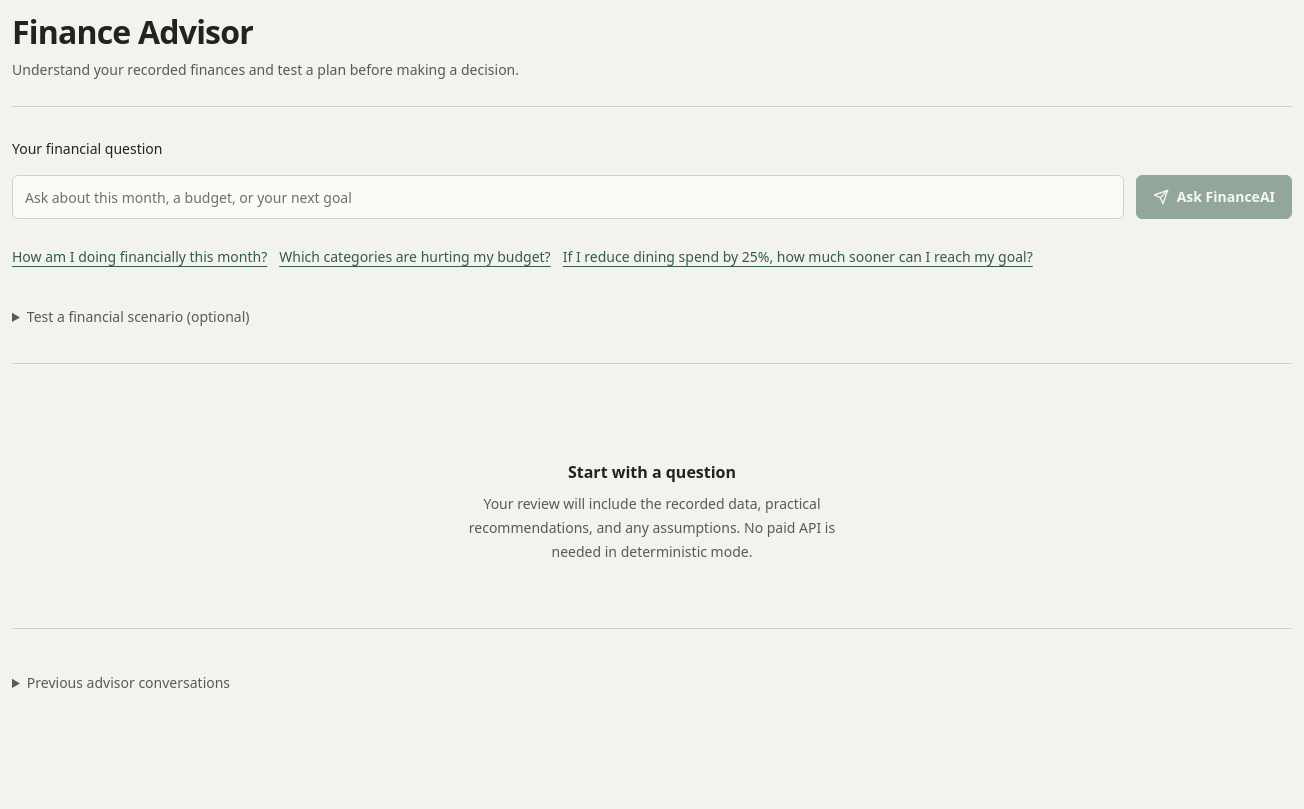
Scenario: Finance Advisor workspace › shows insufficient evidence and retains legacy history
The image size is (1304, 809).
Expected: the heading "Previous advisor conversations" is shown, [27,673,230,692]
Type "How are my finances?" into the field labelled "Your financial question". click: (568, 197)
box: [12,175,1124,219]
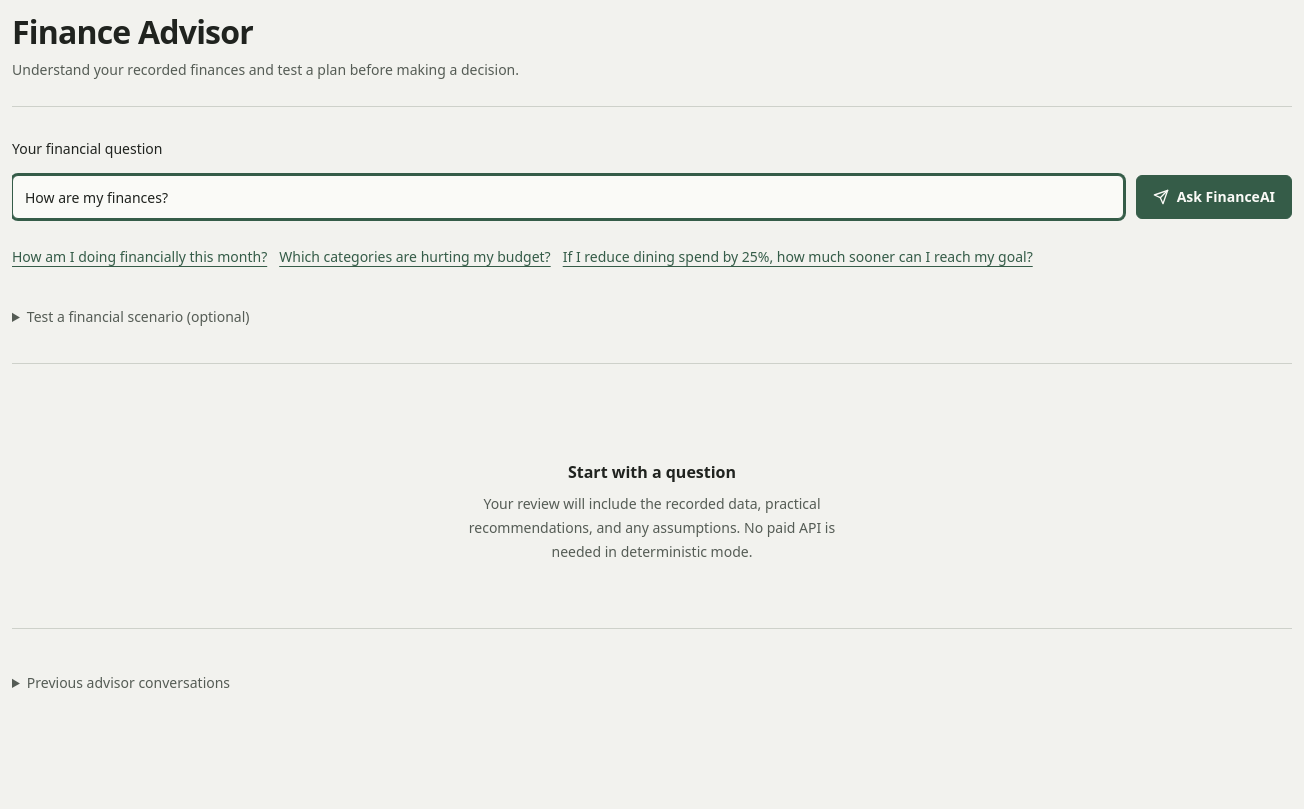
Click the button "Ask FinanceAI". click: (1214, 197)
box: [1136,175,1292,219]
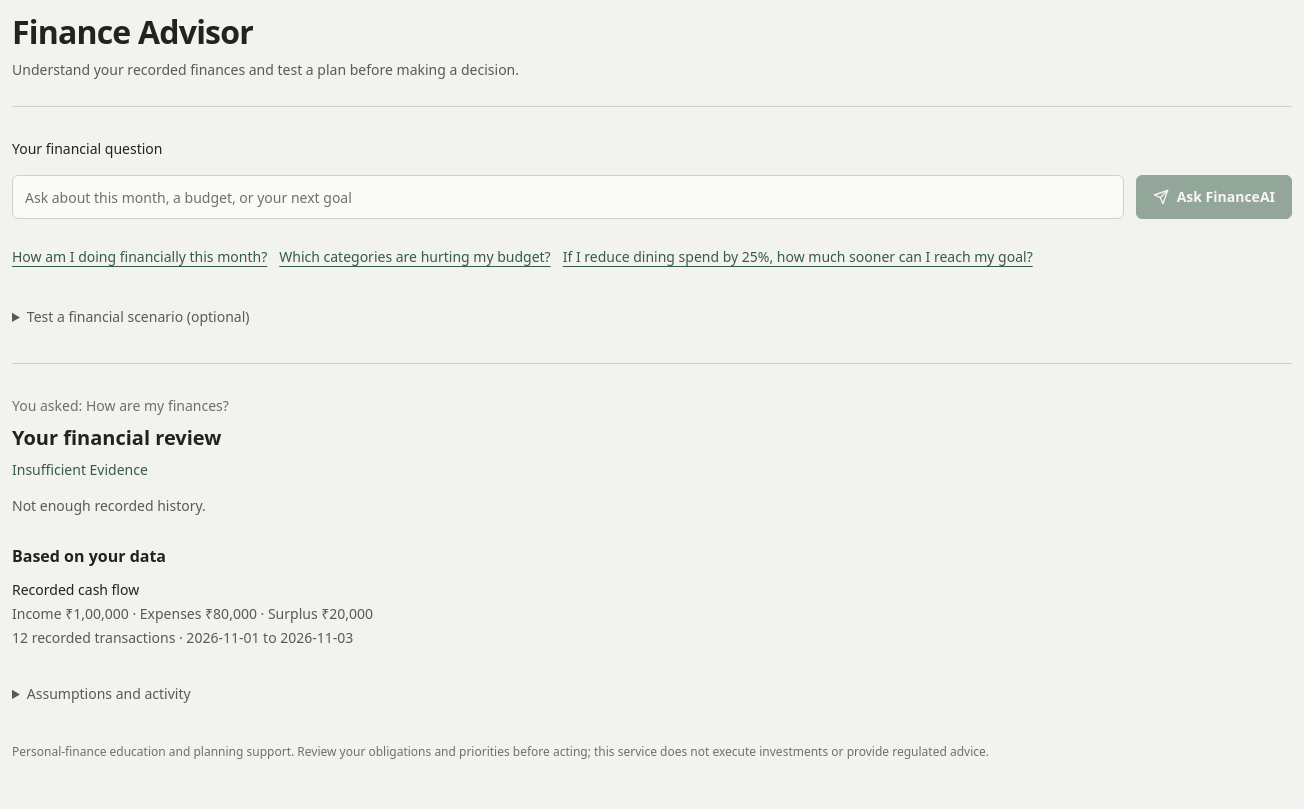
Now the text "Not enough recorded history." is shown, box [12,496,206,515]
